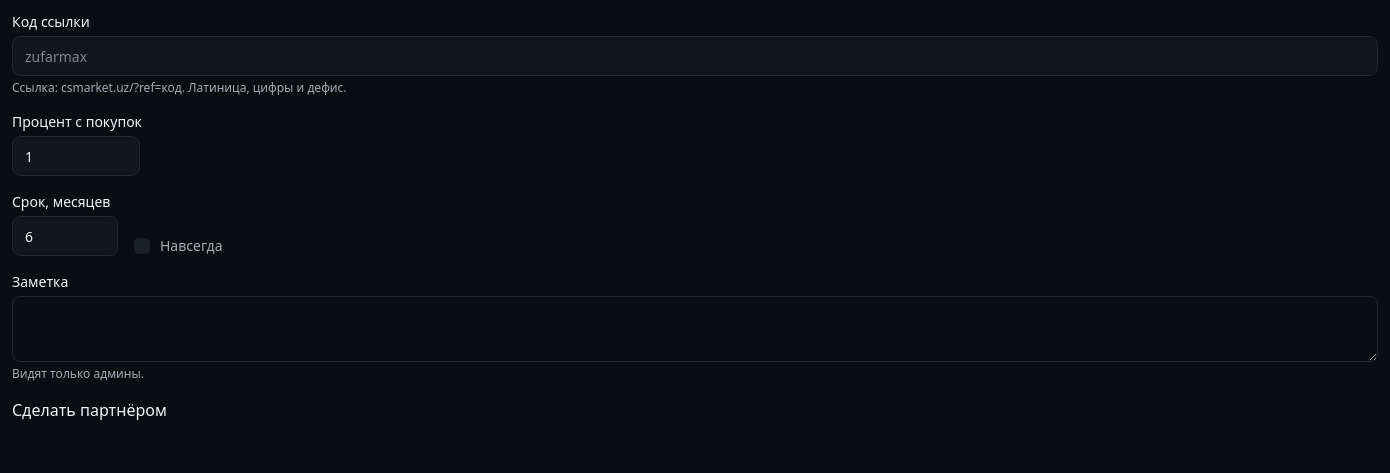
Test: PartnerForm › warns about the margin above 2 %
Replace the text in the field labelled "Процент с покупок" with "2". click: (76,156)
box: [12,136,140,176]
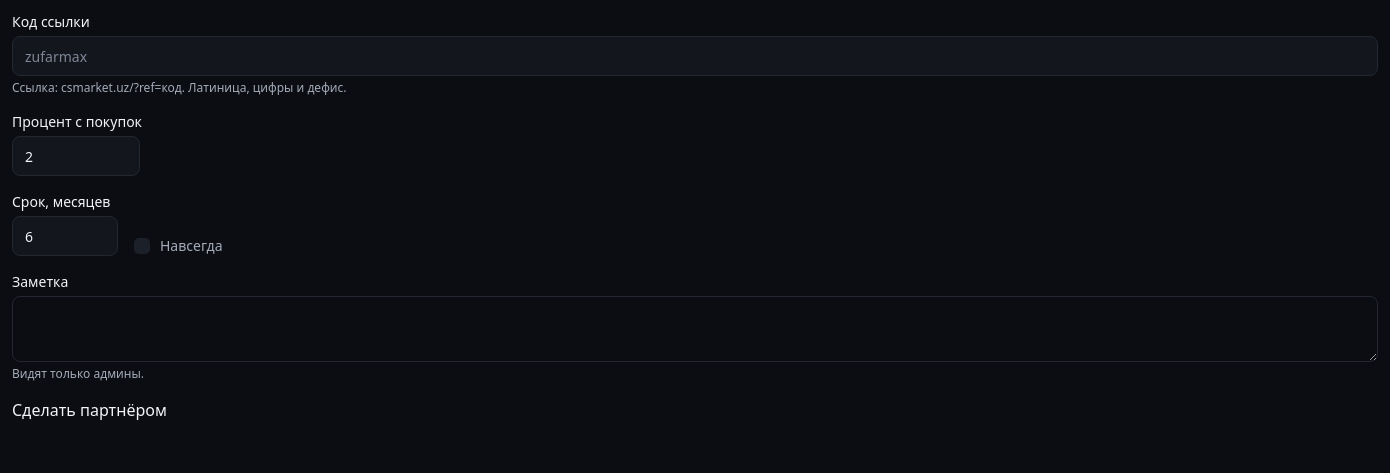
expect the text "маржа может уйти в минус" is not shown: met
Replace the text in the field labelled "Процент с покупок" with "2.1". click: (76,156)
box: [12,136,140,176]
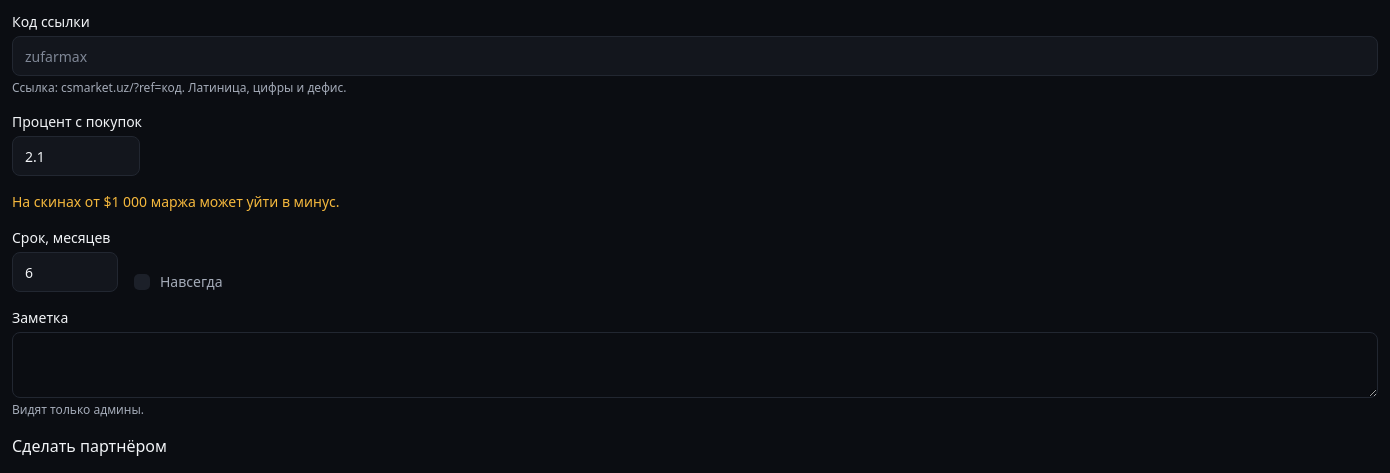
expect the message reads "На скинах от $1 000 маржа может уйти в минус.": met, box [12,192,340,211]
